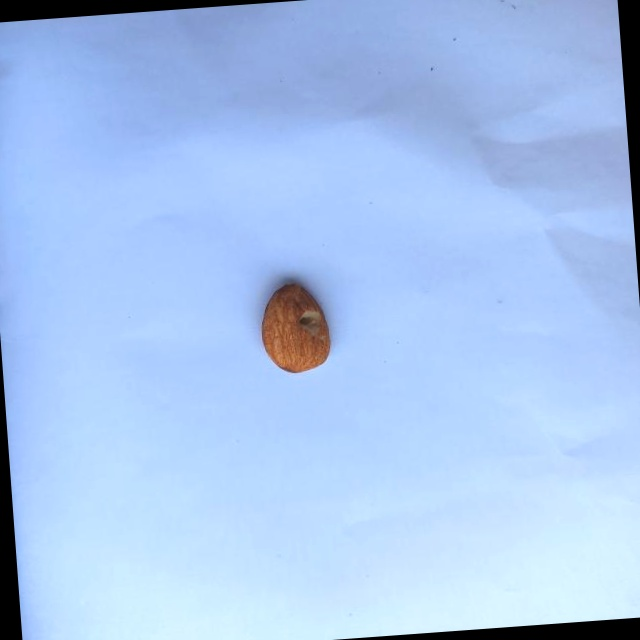grade3: (256, 276, 338, 380)
